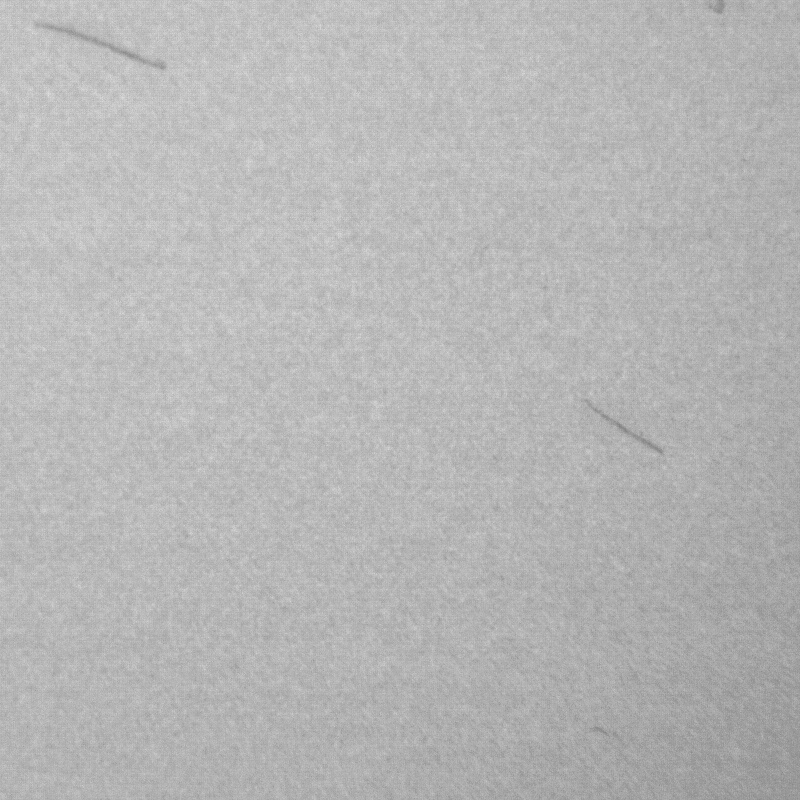defect: (43, 20, 180, 76), (592, 403, 672, 458), (699, 1, 735, 19)
